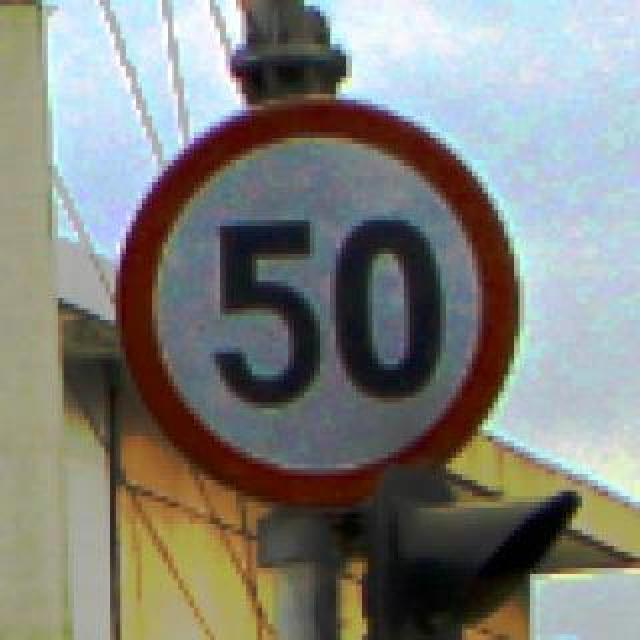50 kph: (110, 94, 514, 498)
